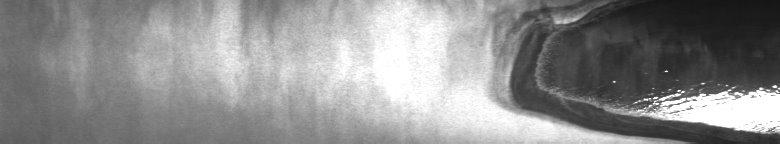ke: (486, 4, 776, 136)
